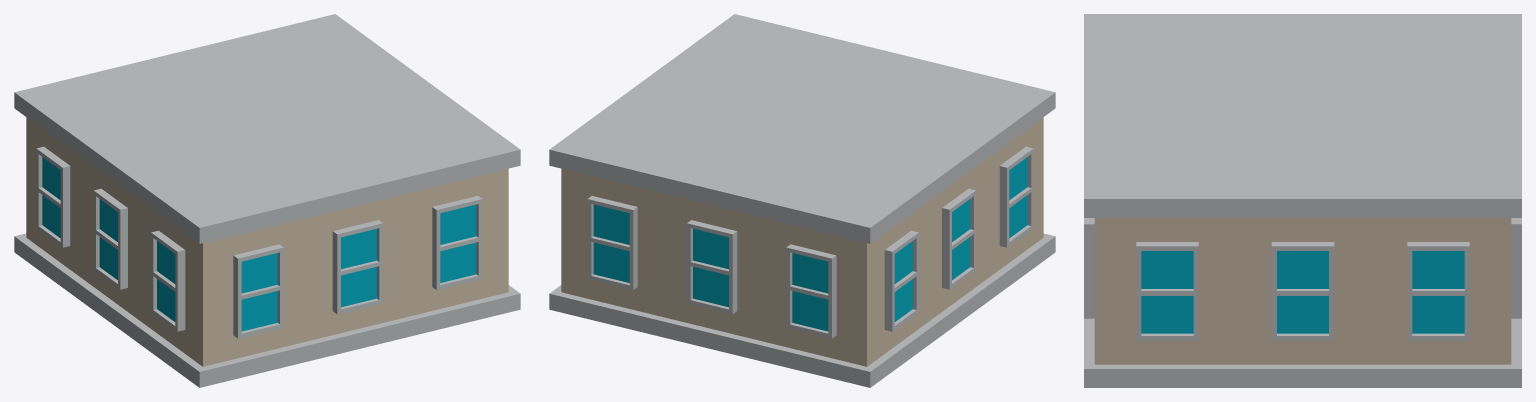
Rendered from apartment.glb.
The picture shows the model from 3 angles, left to right: view 1: azimuth 30°, elevation 25°; view 2: azimuth 150°, elevation 25°; view 3: azimuth 270°, elevation 25°; orthographic projection. The views are drawn at different scales.
Parts seen in each view (by area): view 1: Mesh_Mesh_head_geo.001_lambert2SG.001; view 2: Mesh_Mesh_head_geo.001_lambert2SG.001; view 3: Mesh_Mesh_head_geo.001_lambert2SG.001.
Part boxes in pixels (box(x1,y1,x2,y2)): Mesh_Mesh_head_geo.001_lambert2SG.001: box(14, 14, 520, 387); Mesh_Mesh_head_geo.001_lambert2SG.001: box(549, 14, 1055, 387); Mesh_Mesh_head_geo.001_lambert2SG.001: box(1084, 14, 1521, 387).
Bounding box in the file's own units: 0.042 × 0.02 × 0.042.
